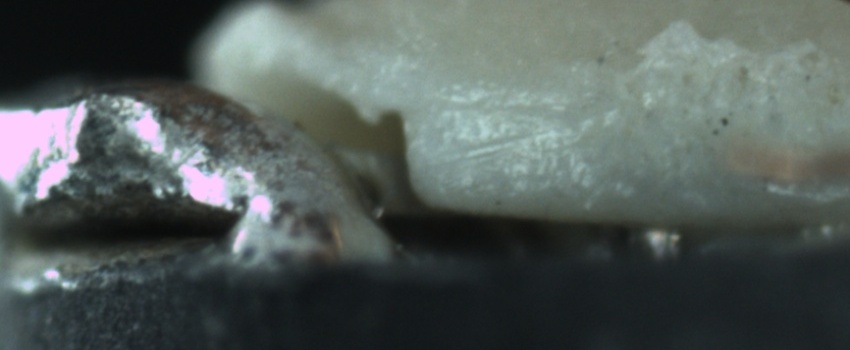DL: (429, 71, 568, 142)
